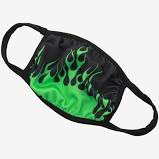cloth_mask: (1, 21, 159, 139)
